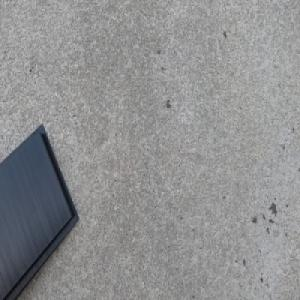PlasticPart: (0, 118, 81, 300)
